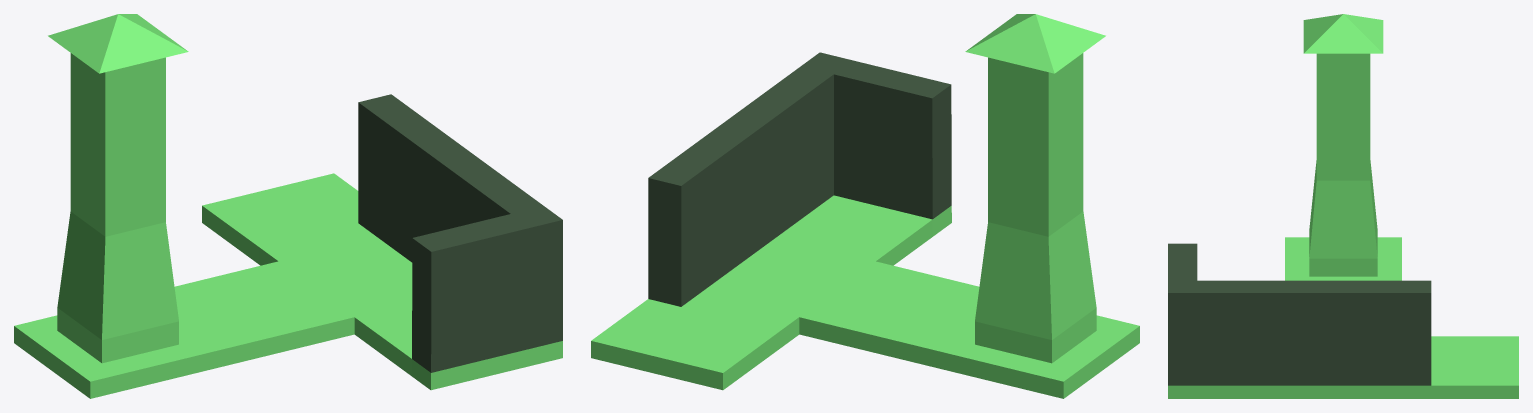
File: SM_SimpleTiles.fbx
3 renders of one model, left to right at view 1: azimuth 30°, elevation 25°; view 2: azimuth 150°, elevation 25°; view 3: azimuth 270°, elevation 25°, orthographic. The views are drawn at different scales.
Parts seen in each view (by area): view 1: Walled_Inner_Corner, Floor_Post, Walled_Floor, Post_Middle, Walled_Outer_Corner, Floor, Post_Top; view 2: Walled_Inner_Corner, Floor_Post, Walled_Outer_Corner, Walled_Floor, Post_Middle, Floor, Post_Top; view 3: Walled_Inner_Corner, Walled_Floor, Walled_Outer_Corner, Floor_Post, Post_Middle, Post_Top.
Part boxes in pixels (box(x1,y1,x2,y2)): Walled_Inner_Corner: box(354, 164, 562, 390); Floor_Post: box(14, 211, 222, 398); Walled_Floor: box(278, 108, 485, 317); Post_Middle: box(70, 73, 165, 236); Walled_Outer_Corner: box(202, 94, 409, 265); Floor: box(174, 261, 354, 366); Post_Top: box(48, 14, 188, 98); Walled_Inner_Corner: box(744, 52, 951, 265); Floor_Post: box(931, 211, 1139, 398); Walled_Outer_Corner: box(591, 164, 799, 390); Walled_Floor: box(668, 108, 875, 317); Post_Middle: box(988, 73, 1083, 236); Floor: box(799, 261, 979, 366); Post_Top: box(965, 14, 1105, 98); Walled_Inner_Corner: box(1168, 243, 1284, 398); Walled_Floor: box(1285, 280, 1401, 398); Walled_Outer_Corner: box(1402, 280, 1518, 398); Floor_Post: box(1285, 160, 1401, 280); Post_Middle: box(1316, 74, 1370, 180); Post_Top: box(1303, 14, 1383, 74).
Size of the model in its own units: 60 by 49.31 by 60.
